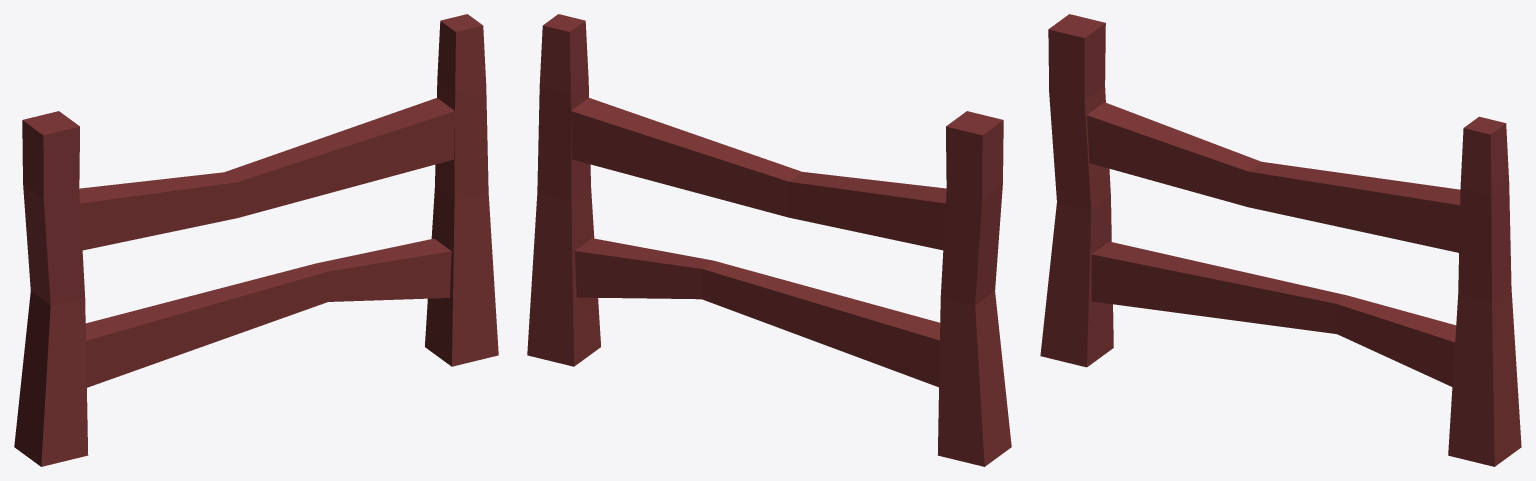
Rendered from FenceStraight.glb.
3 renders of one model, left to right at view 1: azimuth 30°, elevation 25°; view 2: azimuth 150°, elevation 25°; view 3: azimuth 330°, elevation 25°, orthographic.
Visible parts, largest first — view 1: Fence01; view 2: Fence01; view 3: Fence01.
Boxes of the visible parts, box(x1,y1,x2,y2) form: Fence01: box(14, 14, 498, 466); Fence01: box(527, 14, 1011, 466); Fence01: box(1040, 14, 1521, 466).
Size of the model in its own units: 8.78 by 6.02 by 0.9.
